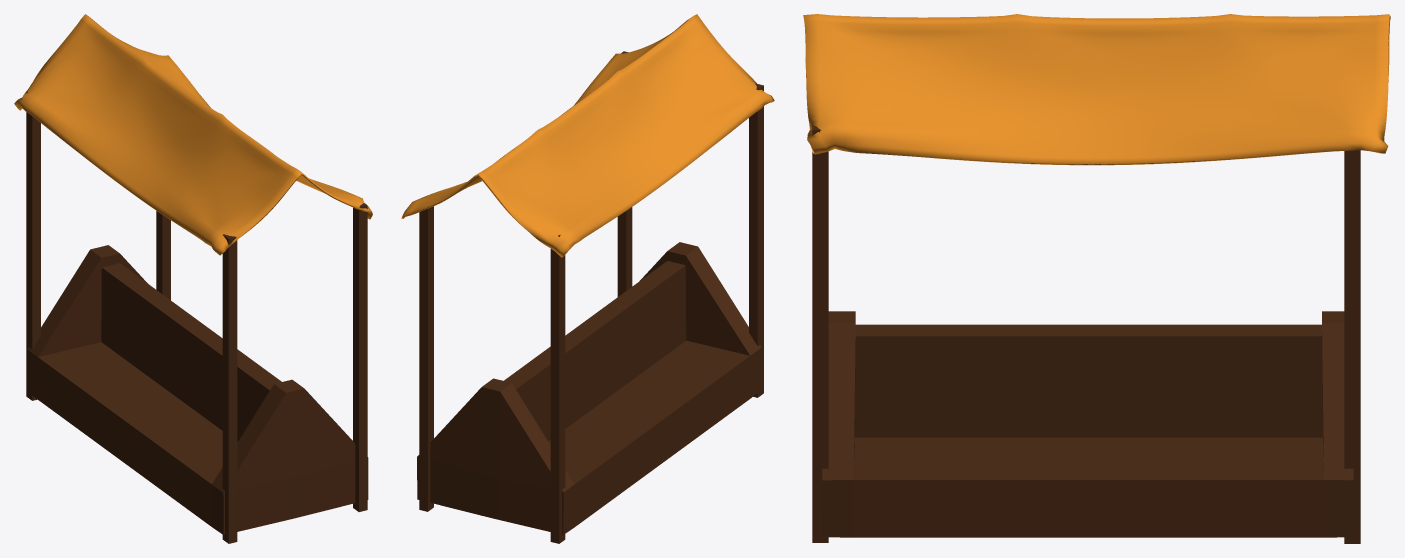
File: tarp with fixed norms.fbx
3 views of the same model, side by side, from view 1: azimuth 30°, elevation 25°; view 2: azimuth 150°, elevation 25°; view 3: azimuth 270°, elevation 25° (orthographic). The views are drawn at different scales.
Visible parts, largest first — view 1: PIN.004; view 2: PIN.004; view 3: PIN.004.
Part boxes in pixels (x1,y1,x2,y2): PIN.004: (14, 14, 372, 543); PIN.004: (401, 14, 774, 543); PIN.004: (803, 14, 1390, 543).
Size of the model in its own units: 226 by 526 by 478.
